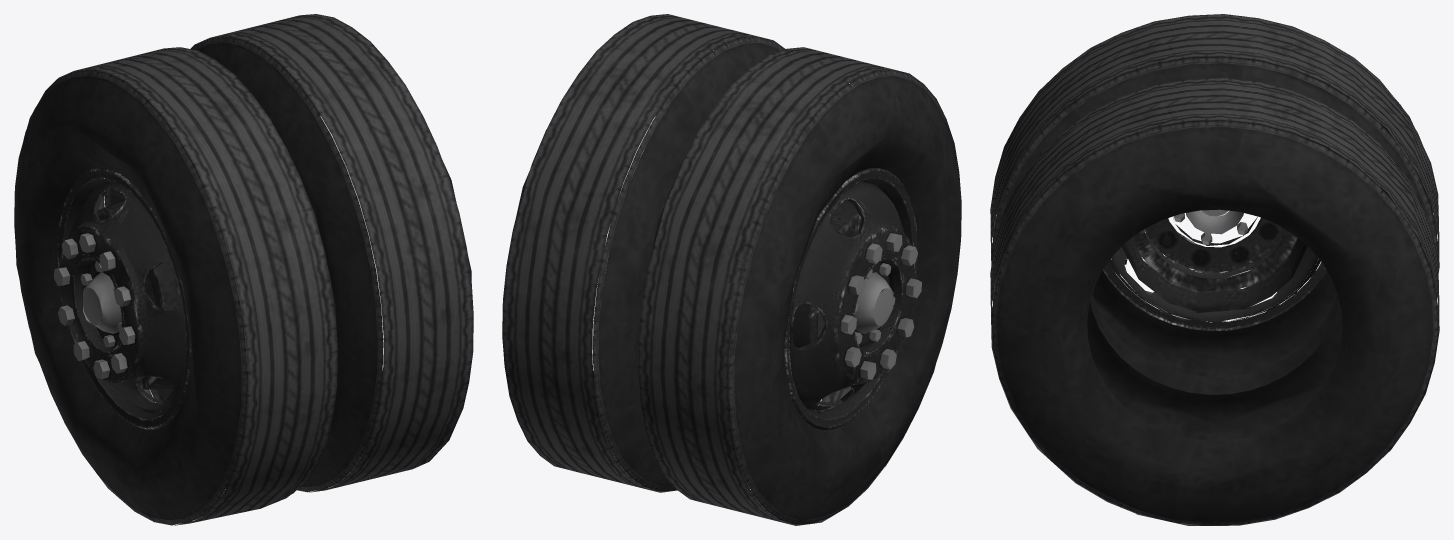
Rendered from tm_wheel_a2_L.glb.
3 views of the same model, side by side, from view 1: azimuth 30°, elevation 25°; view 2: azimuth 150°, elevation 25°; view 3: azimuth 270°, elevation 25° (orthographic). The views are drawn at different scales.
Visible parts, largest first — view 1: wheel_(2, 0); view 2: wheel_(2, 0); view 3: wheel_(2, 0).
Part boxes in pixels (x1,y1,x2,y2): wheel_(2, 0): [14, 14, 473, 525]; wheel_(2, 0): [502, 14, 961, 525]; wheel_(2, 0): [990, 14, 1439, 525].
Bounding box in the file's own units: 63.93 × 90.33 × 90.34.
1 material, 1 textured.
